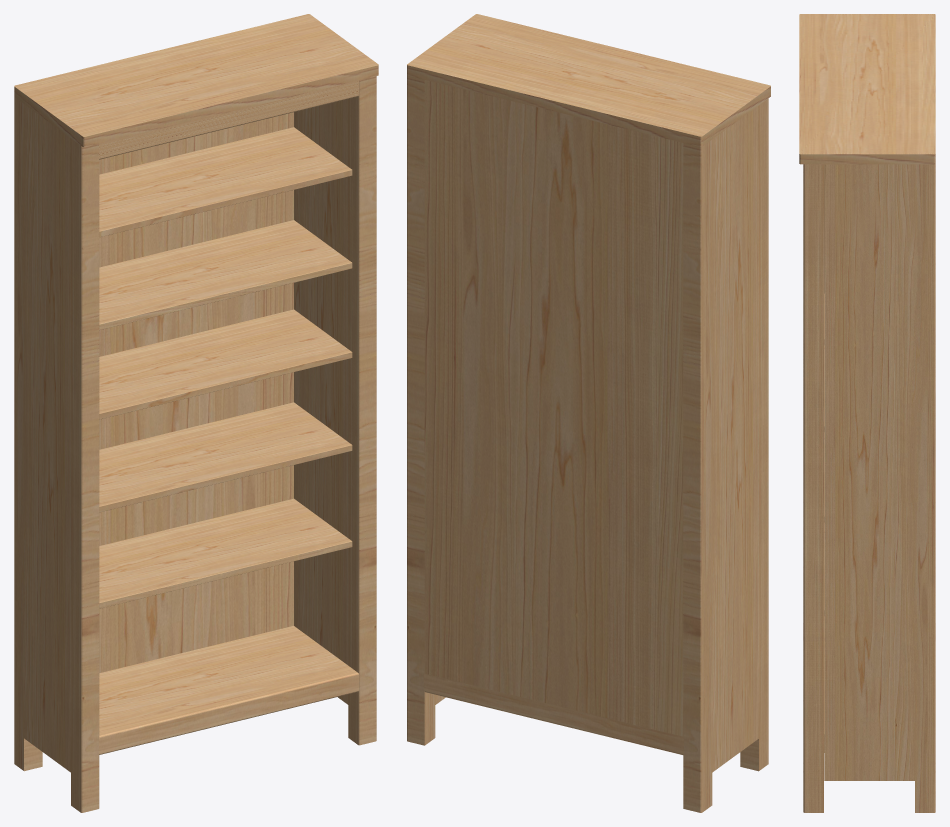
The model's file is HEMNES_Library.obj.
3 views of the same model, side by side, from view 1: azimuth 30°, elevation 25°; view 2: azimuth 150°, elevation 25°; view 3: azimuth 270°, elevation 25° (orthographic). The views are drawn at different scales.
Visible parts, largest first — view 1: Generic_Models; view 2: Generic_Models; view 3: Generic_Models.
Part boxes in pixels (<box>): Generic_Models: <box>14,14,378,812</box>; Generic_Models: <box>407,14,770,812</box>; Generic_Models: <box>799,14,935,812</box>.
Size of the model in its own units: 900 by 1970 by 370.
